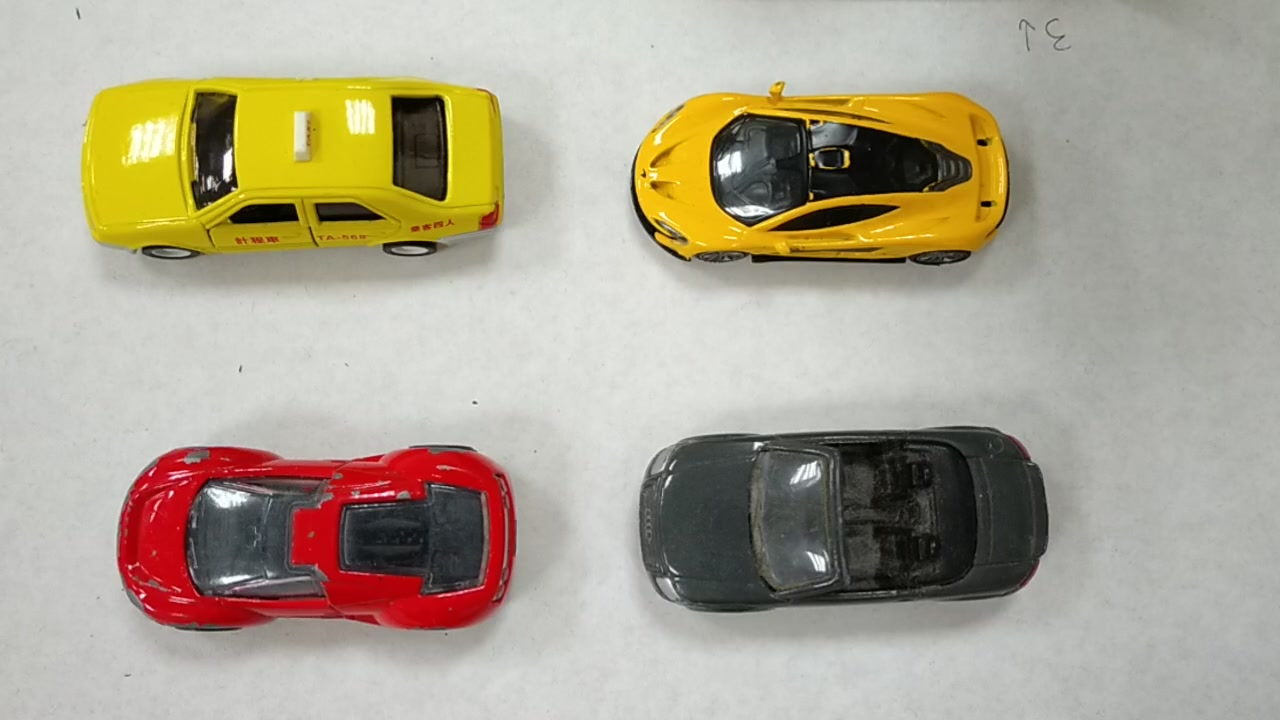car: (112, 454, 518, 640), (632, 436, 1044, 619), (79, 87, 507, 242), (630, 100, 1019, 246)
